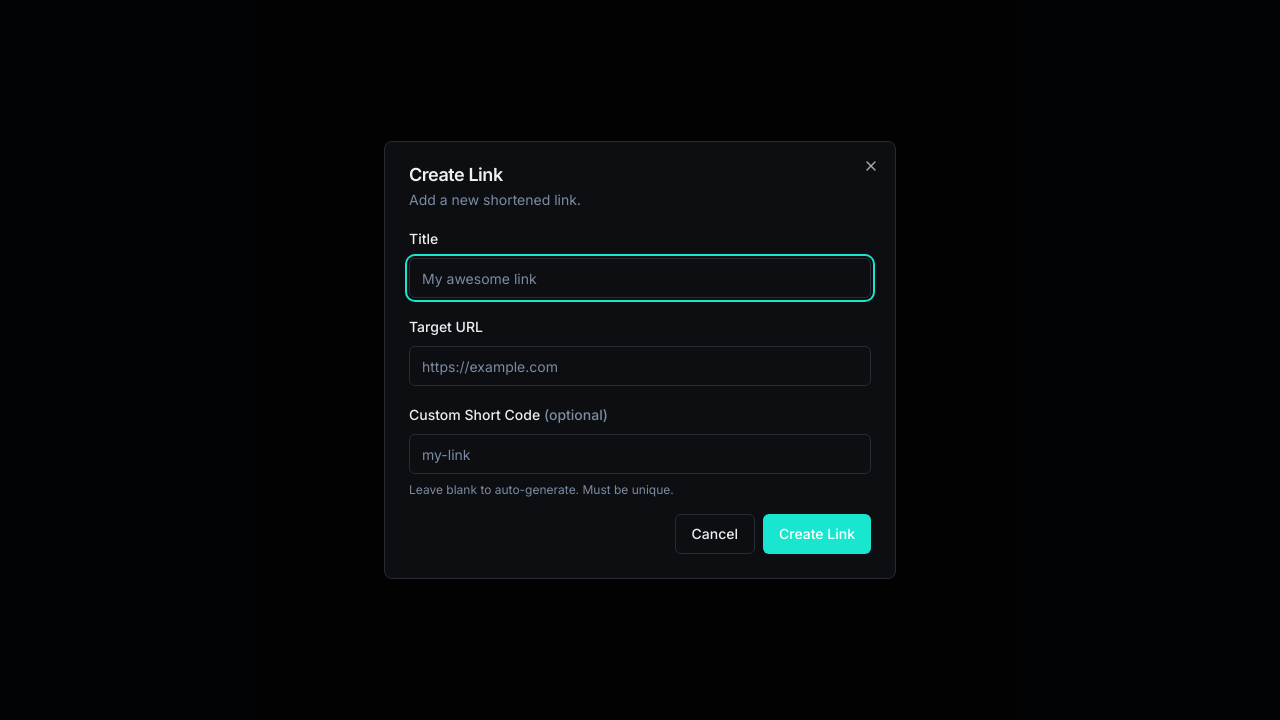
Test: LinkFormDialog › Create mode › shows error message on failure
The image size is (1280, 720).
Type "Link" into the field with placeholder "My awesome link". click: (640, 278)
box: [409,258,871,298]
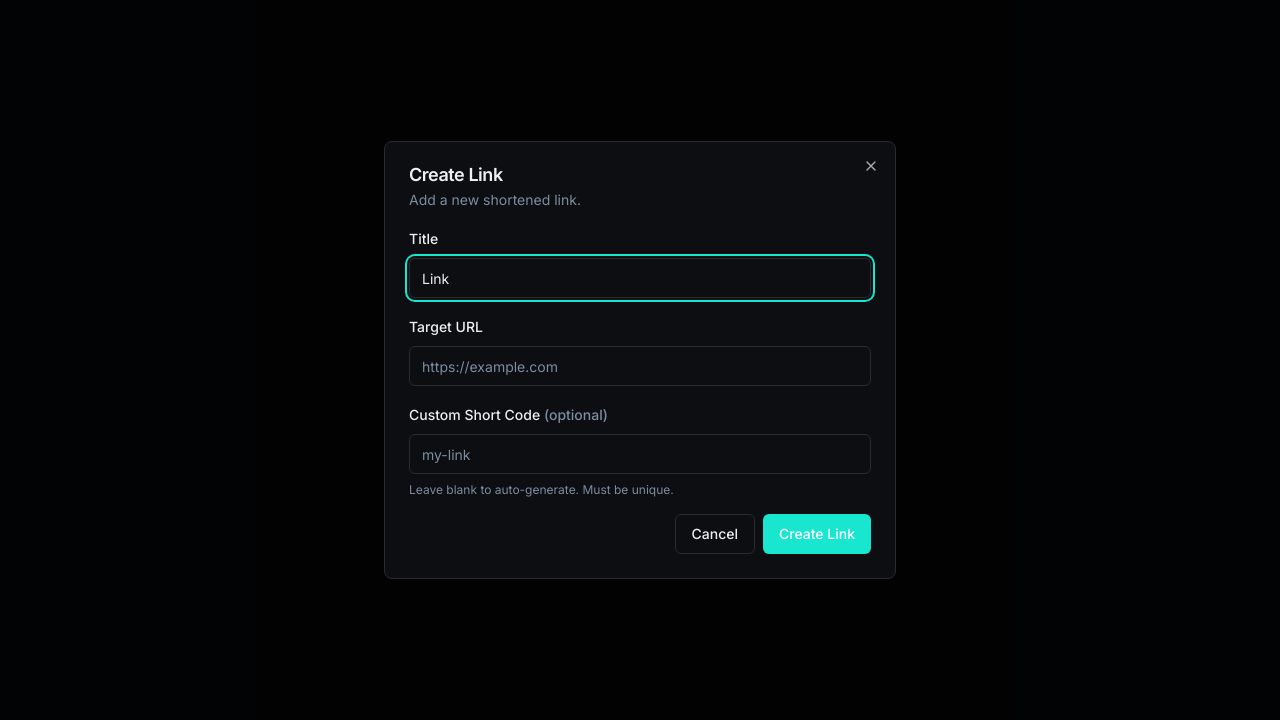
Type "https://x.com" into the field with placeholder "https://example.com". click: (640, 366)
box: [409,346,871,386]
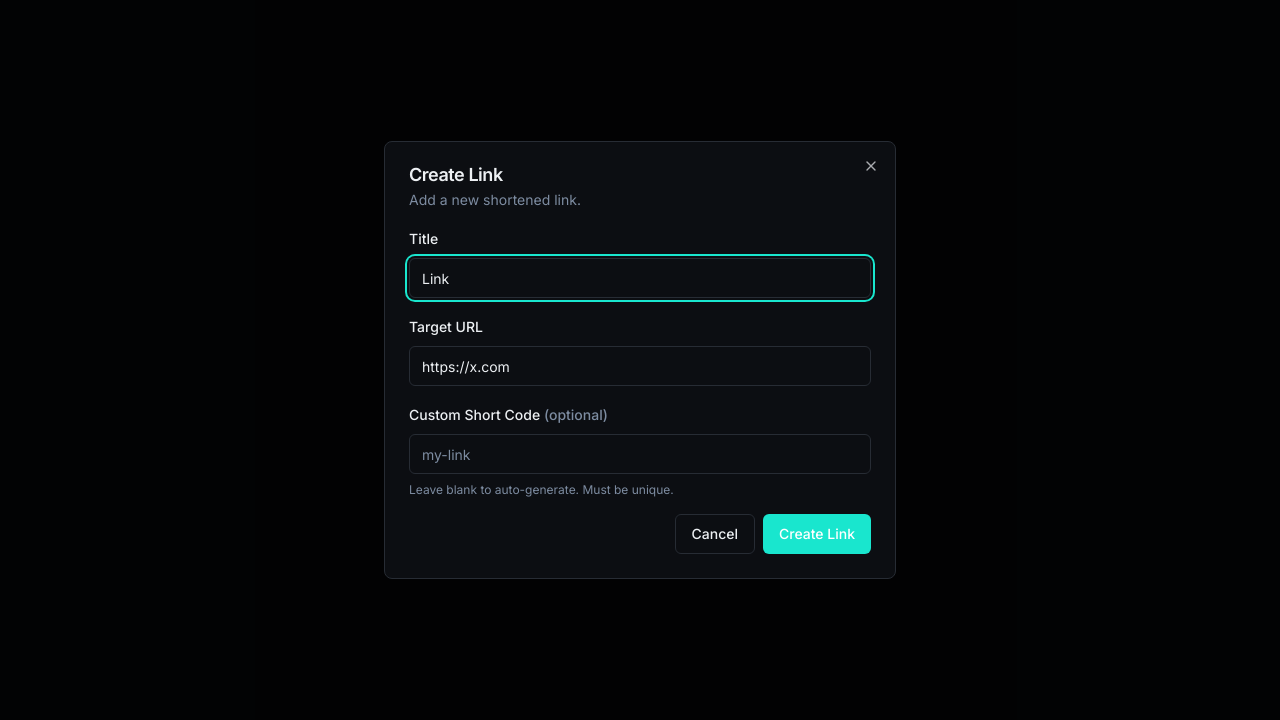
Submit the form with placeholder "My awesome link", box [409,226,871,554]
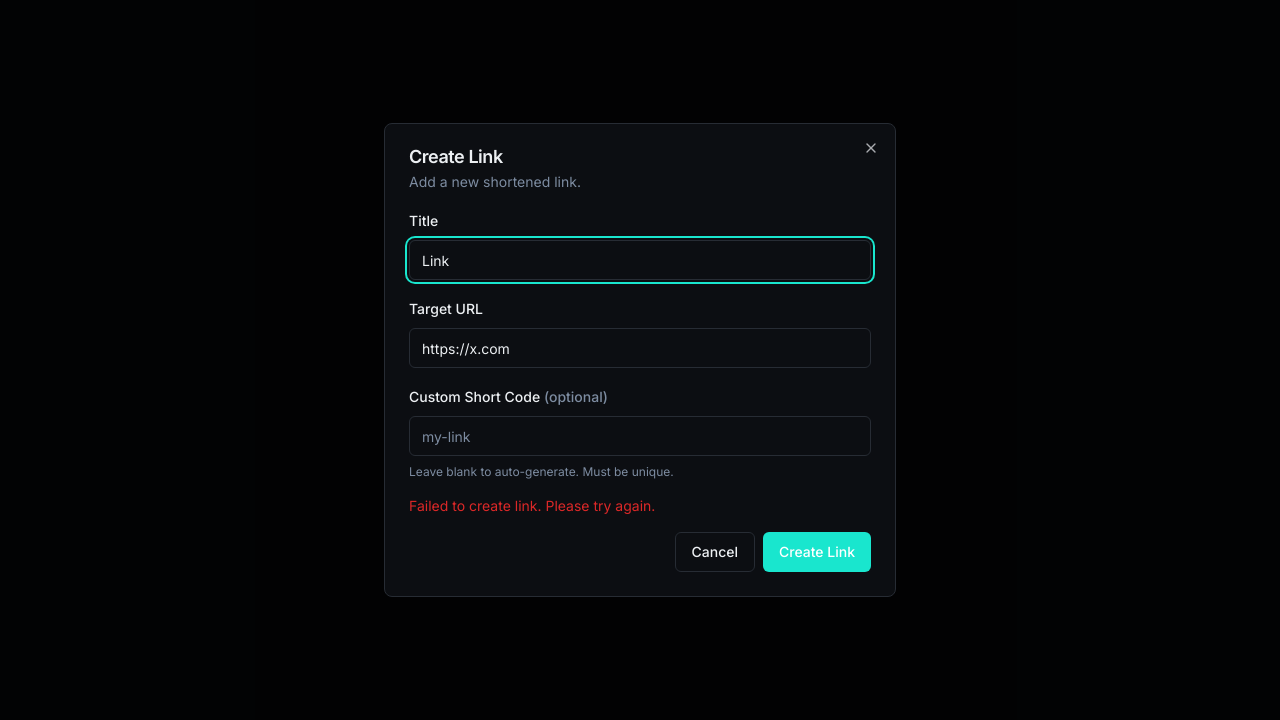
Expected: the text "Failed to create link. Please try again." is shown, [409,497,655,514]
